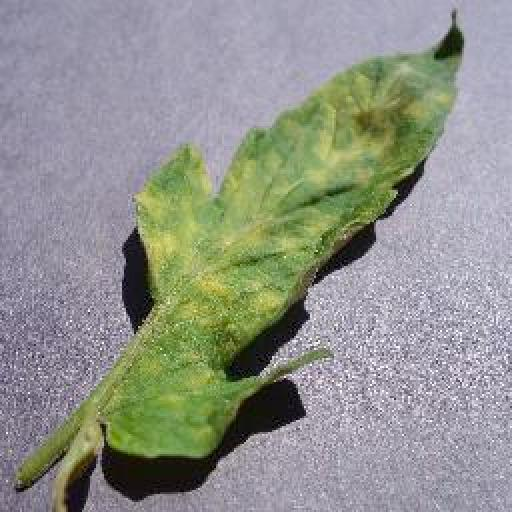disease_tomato: (100, 11, 466, 457)
